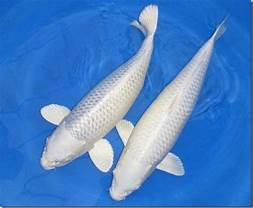white: (109, 14, 228, 200), (40, 5, 158, 171)
